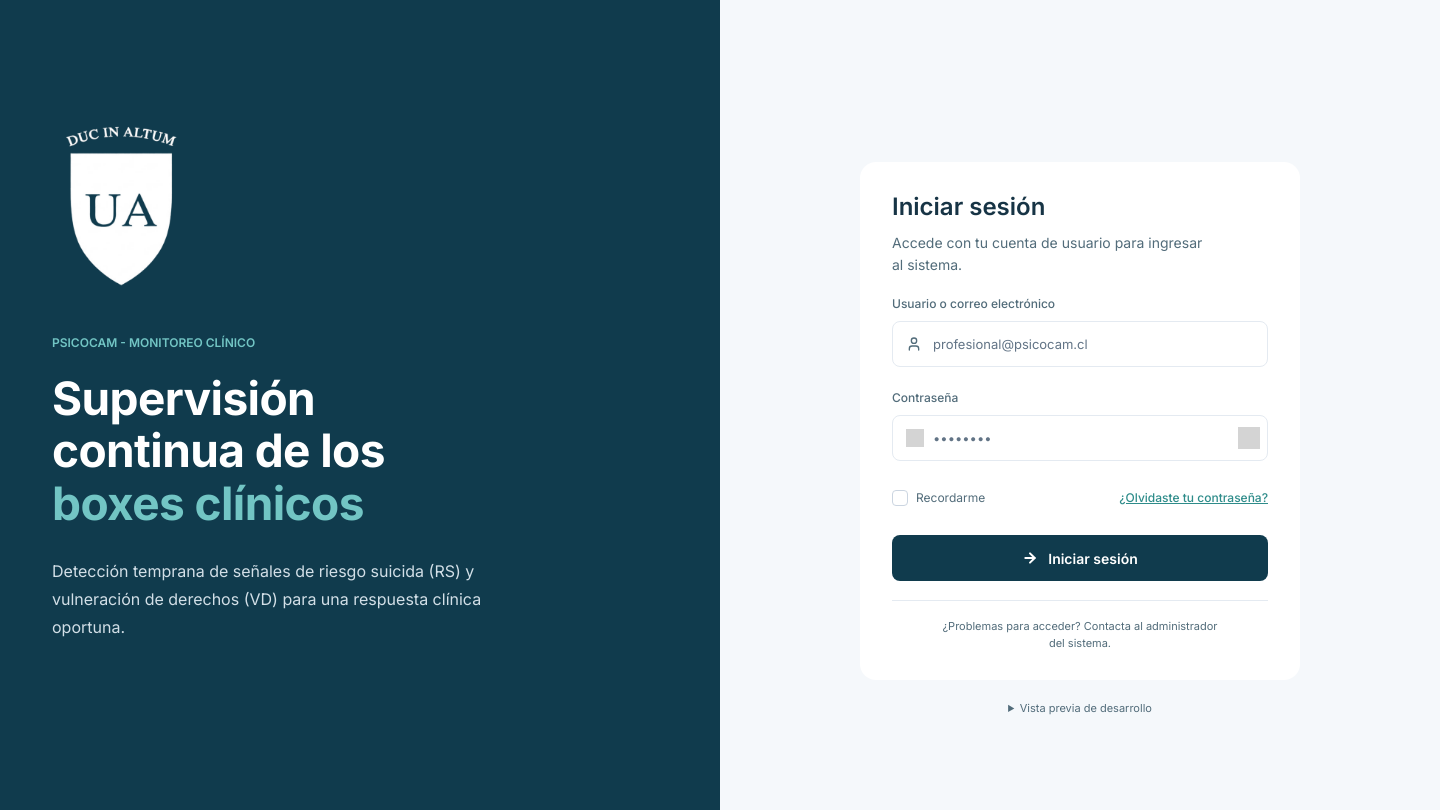
Test: Enrutamiento principal: SCRUM-222 a SCRUM-225 › recupera el detalle solicitado después de abrir la vista previa
Expected: the heading "Detalle de alerta" is not shown
Click the heading "Vista previa de desarrollo" at [1086, 708], box [1020, 701, 1152, 715]
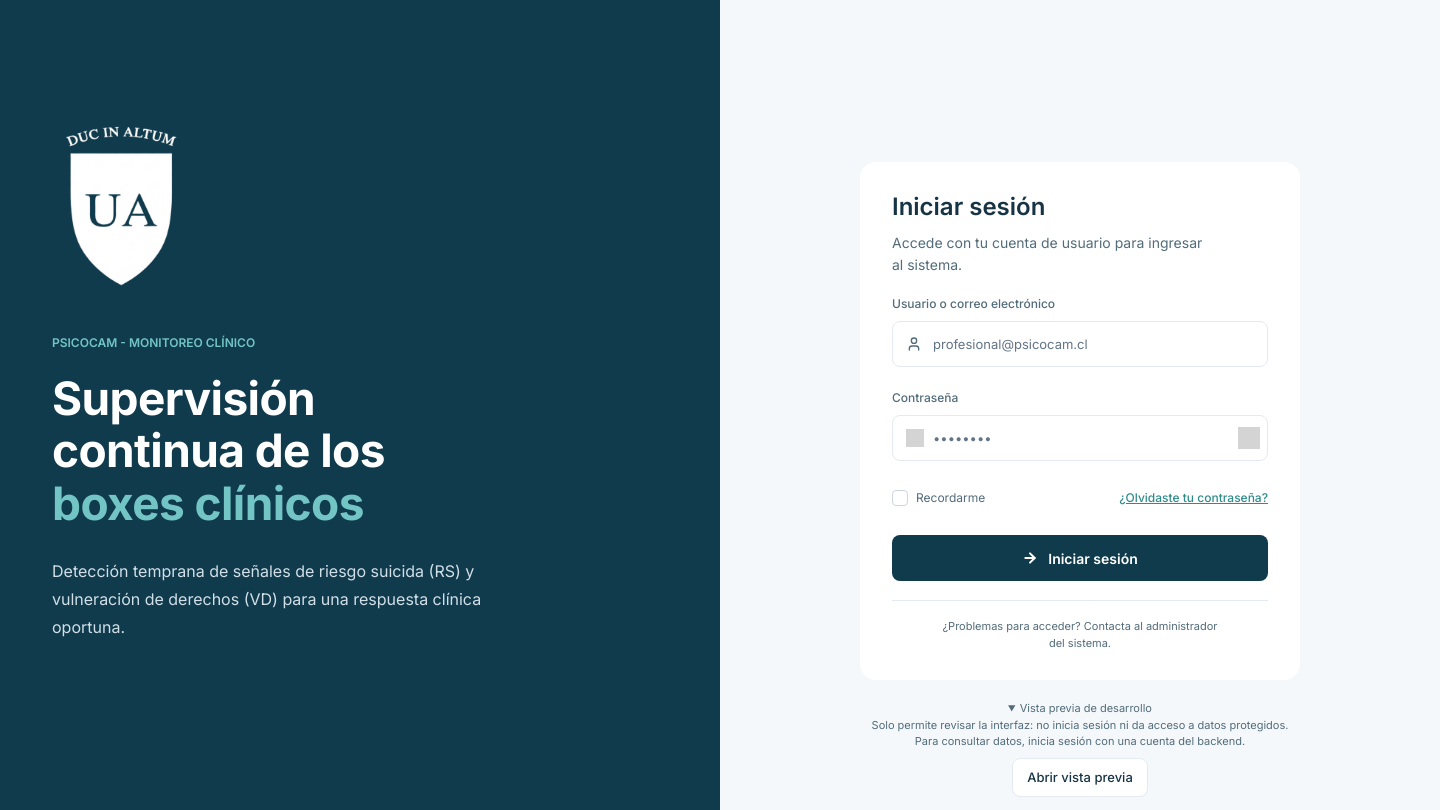
Click the button "Abrir vista previa" at [1080, 777], box [1012, 758, 1148, 797]
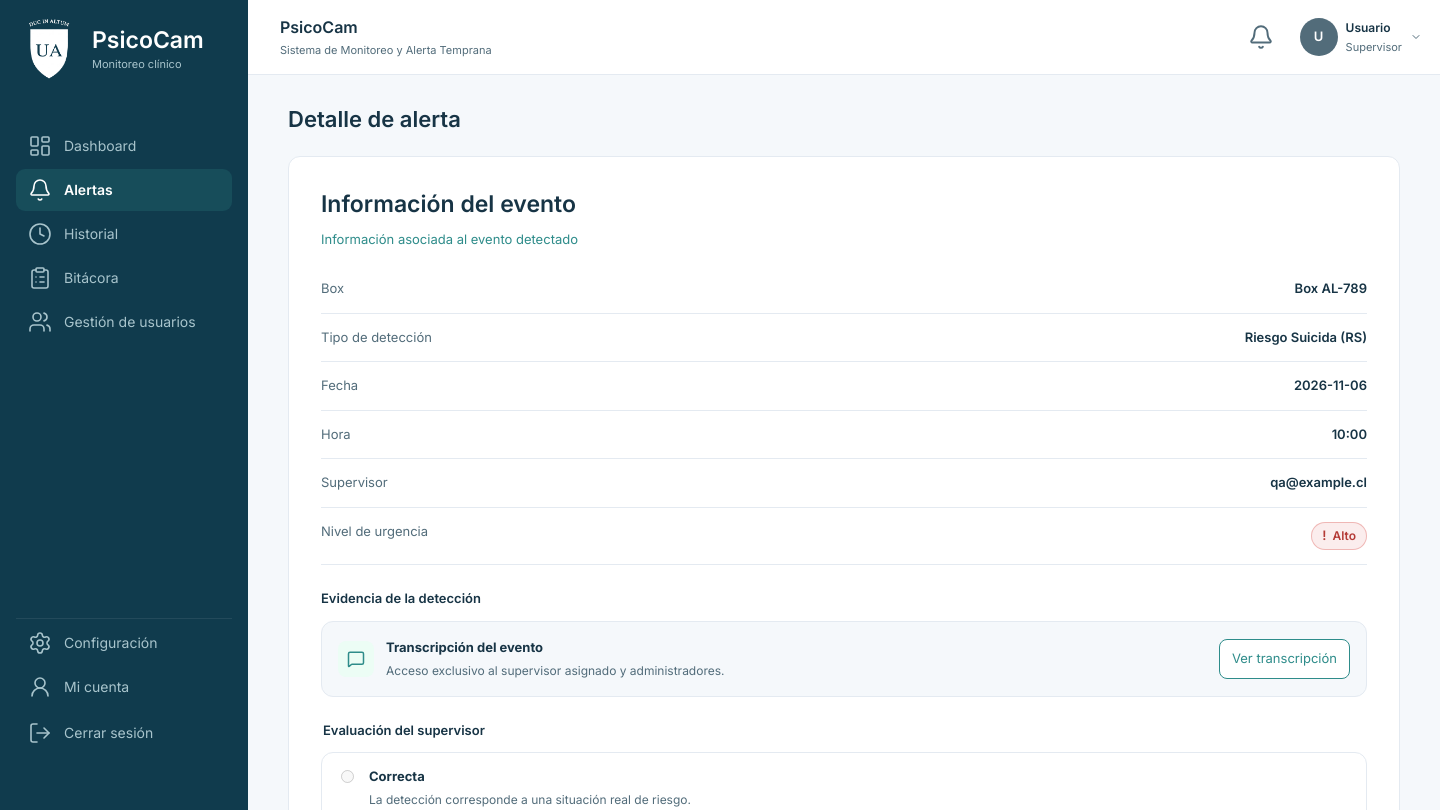
Now the text "Box AL-789" is shown, box [1295, 279, 1367, 298]
